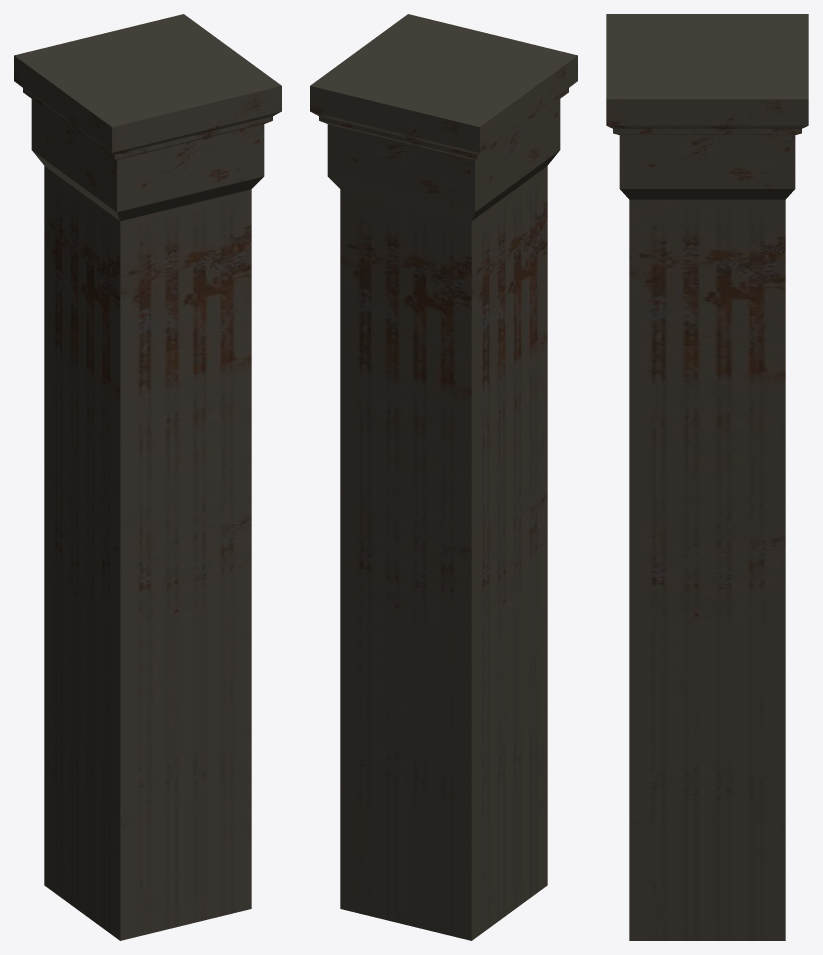
The model's file is Metal_Column_Top.glb.
3 views of the same model, side by side, from view 1: azimuth 30°, elevation 25°; view 2: azimuth 150°, elevation 25°; view 3: azimuth 270°, elevation 25° (orthographic). The views are drawn at different scales.
Visible parts, largest first — view 1: Metal_Column_Top; view 2: Metal_Column_Top; view 3: Metal_Column_Top.
Boxes of the visible parts, x1,y1,x2,y2 form: Metal_Column_Top: (14, 14, 281, 940); Metal_Column_Top: (310, 14, 577, 940); Metal_Column_Top: (606, 14, 808, 940).
Size of the model in its own units: 0.6442 by 3 by 0.6445.
Materials: 1 (1 with a texture image).
